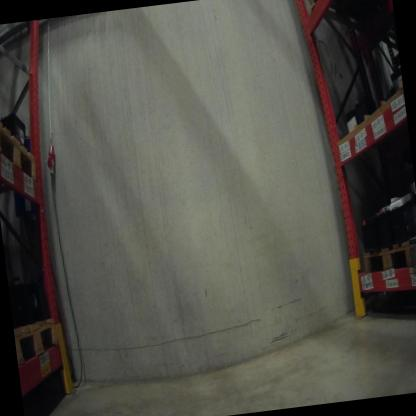pallet: (0, 102, 66, 366), (308, 0, 388, 44), (353, 225, 413, 278), (404, 223, 416, 278)
